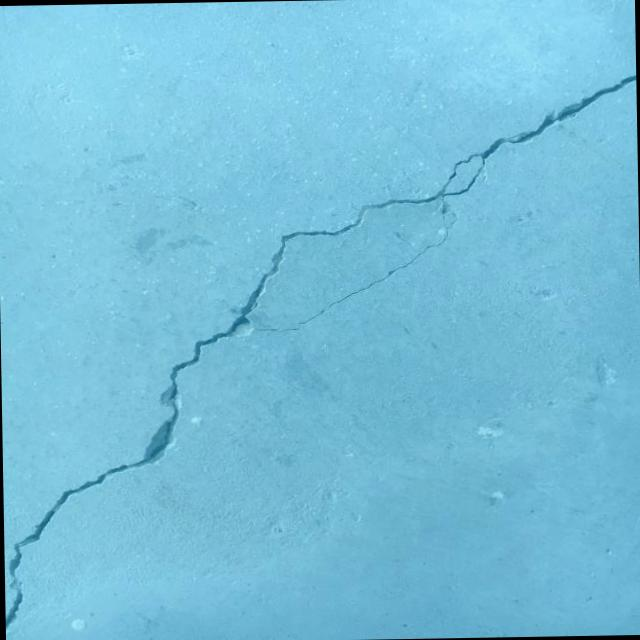crack: (0, 73, 640, 630)
